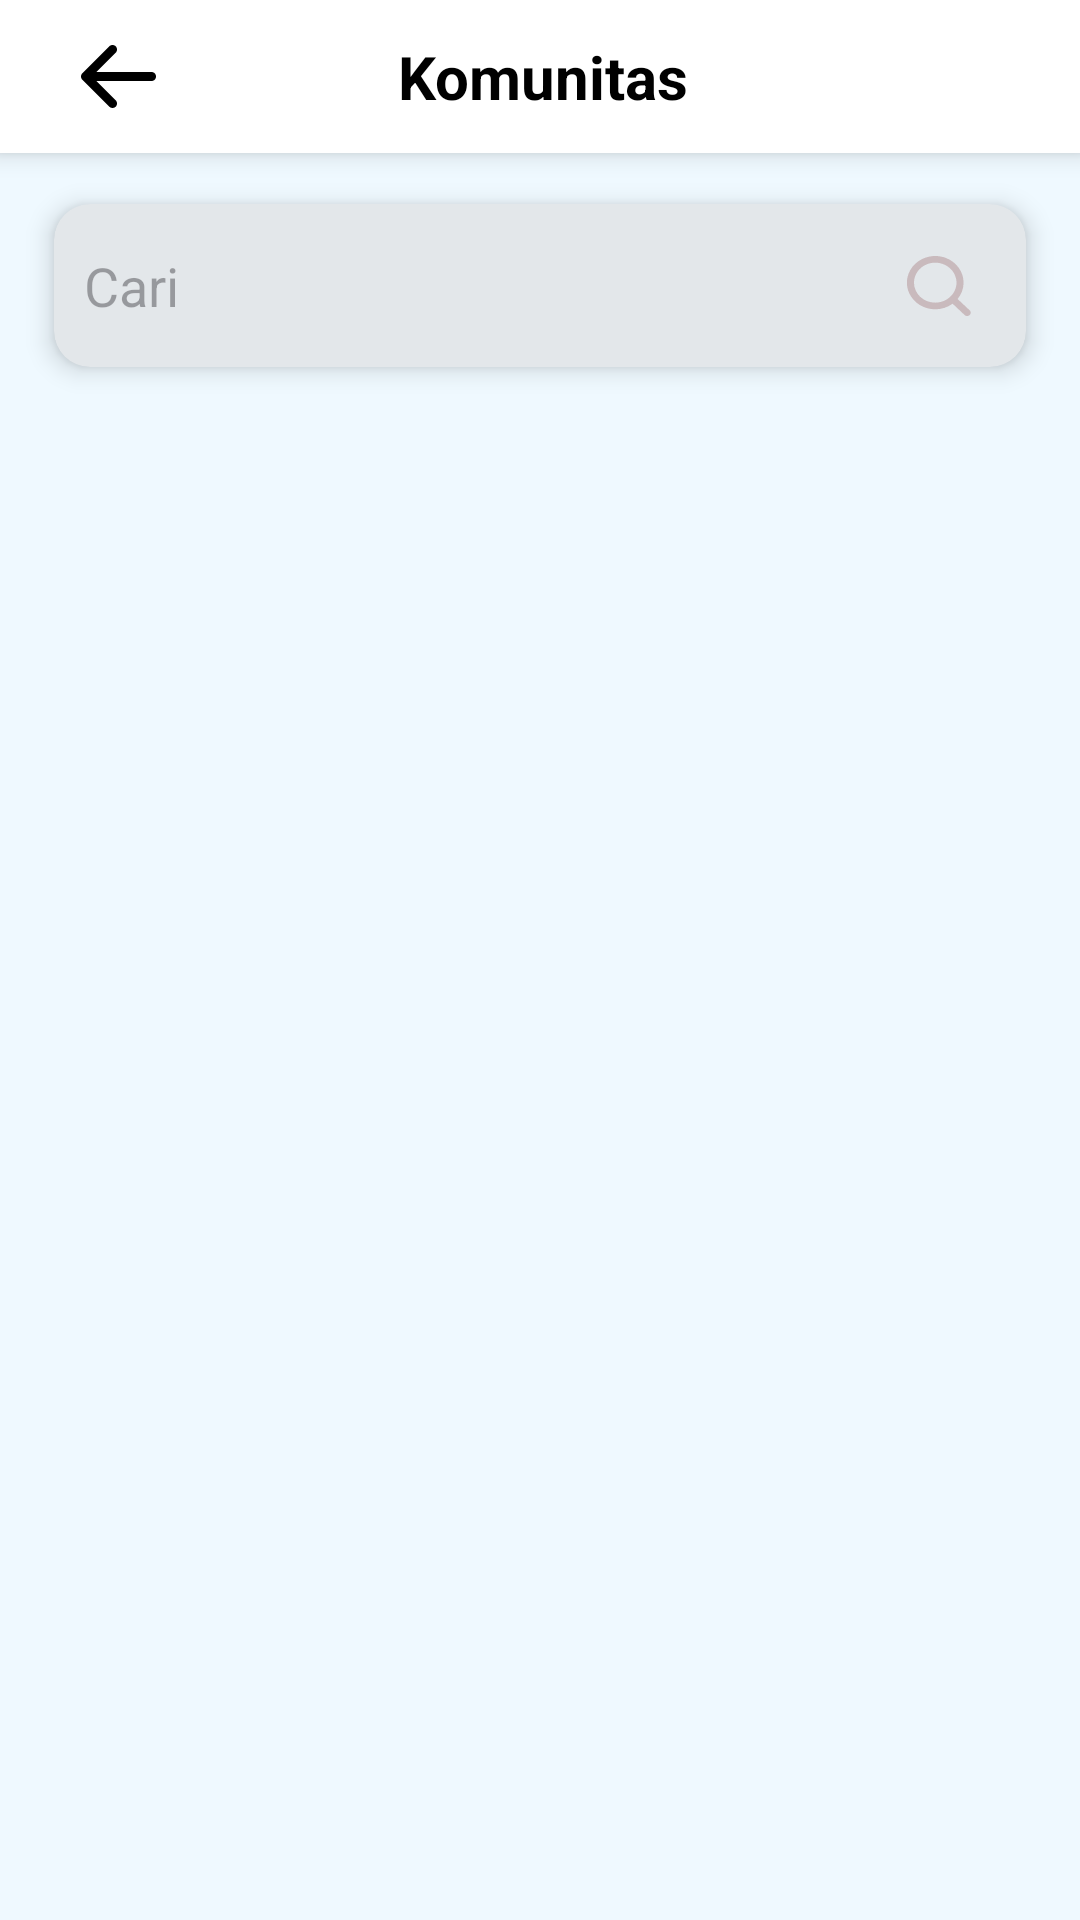

Screen size 1080x1920. Icon name, then its box in pixels as [x1=x1, y1=y1, x2=x2, y2=y2]:
back: [x1=81, y1=45, x2=156, y2=108]
search: [x1=907, y1=256, x2=971, y2=316]
